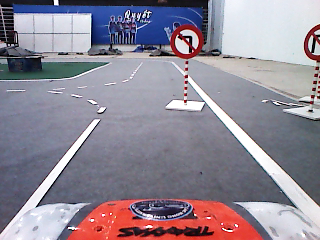ban: (171, 24, 204, 59)
